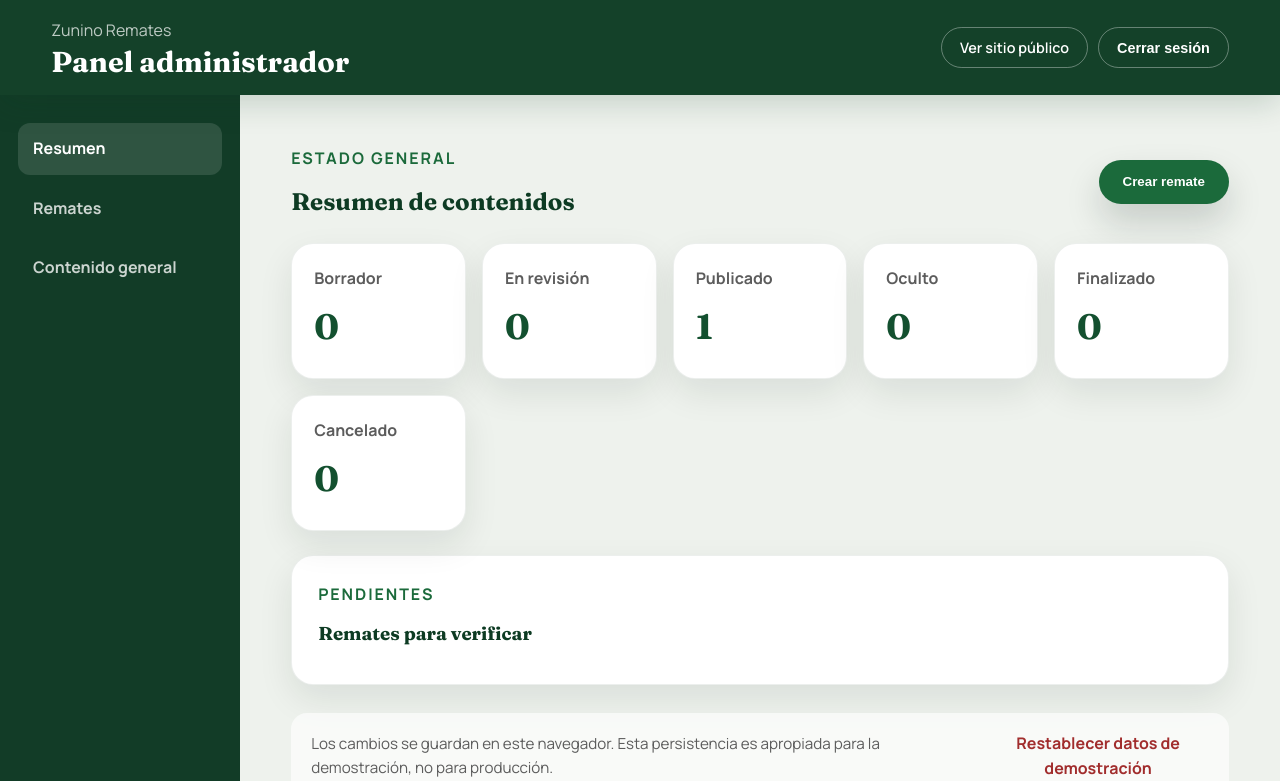
Scenario: panel administrador › mantiene abierto el editor y conserva los datos locales ante un conflicto
Click the button "Remates": (120, 209) [18,183,222,234]
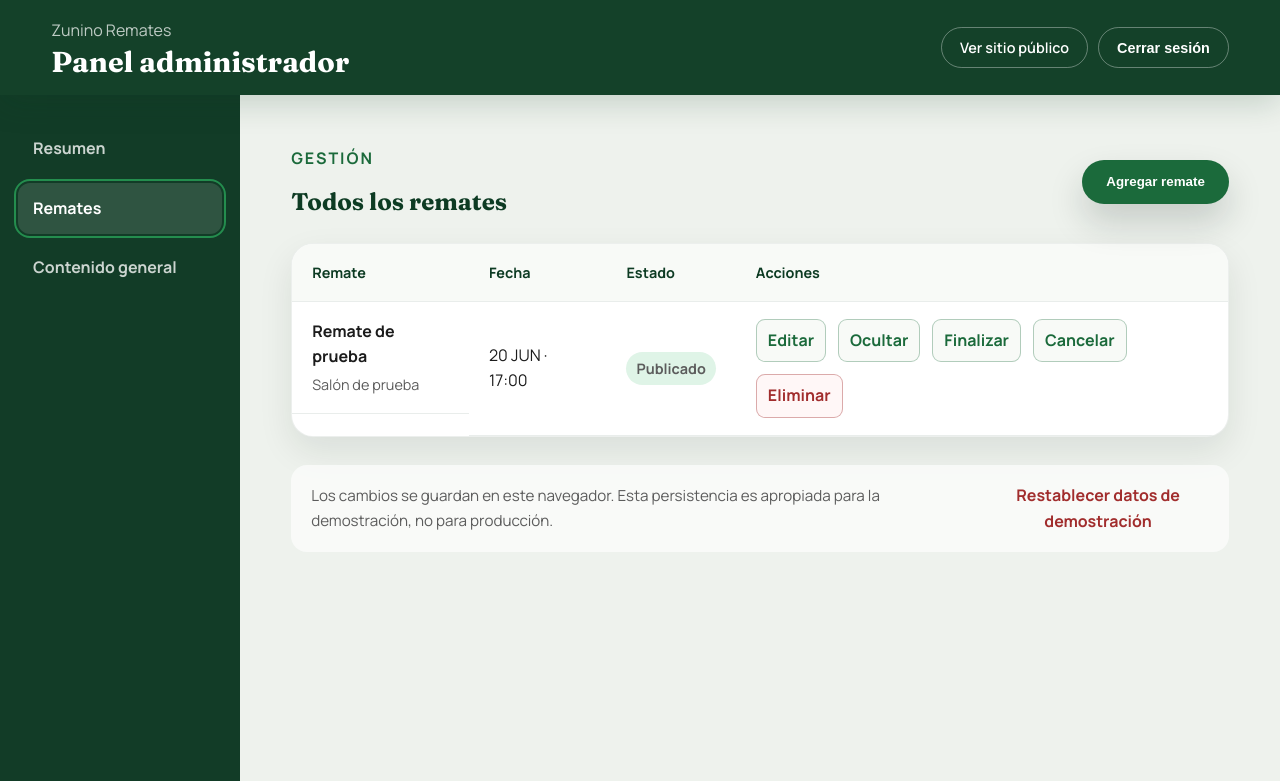
Click the button "Editar": (791, 341) [756,319,826,362]
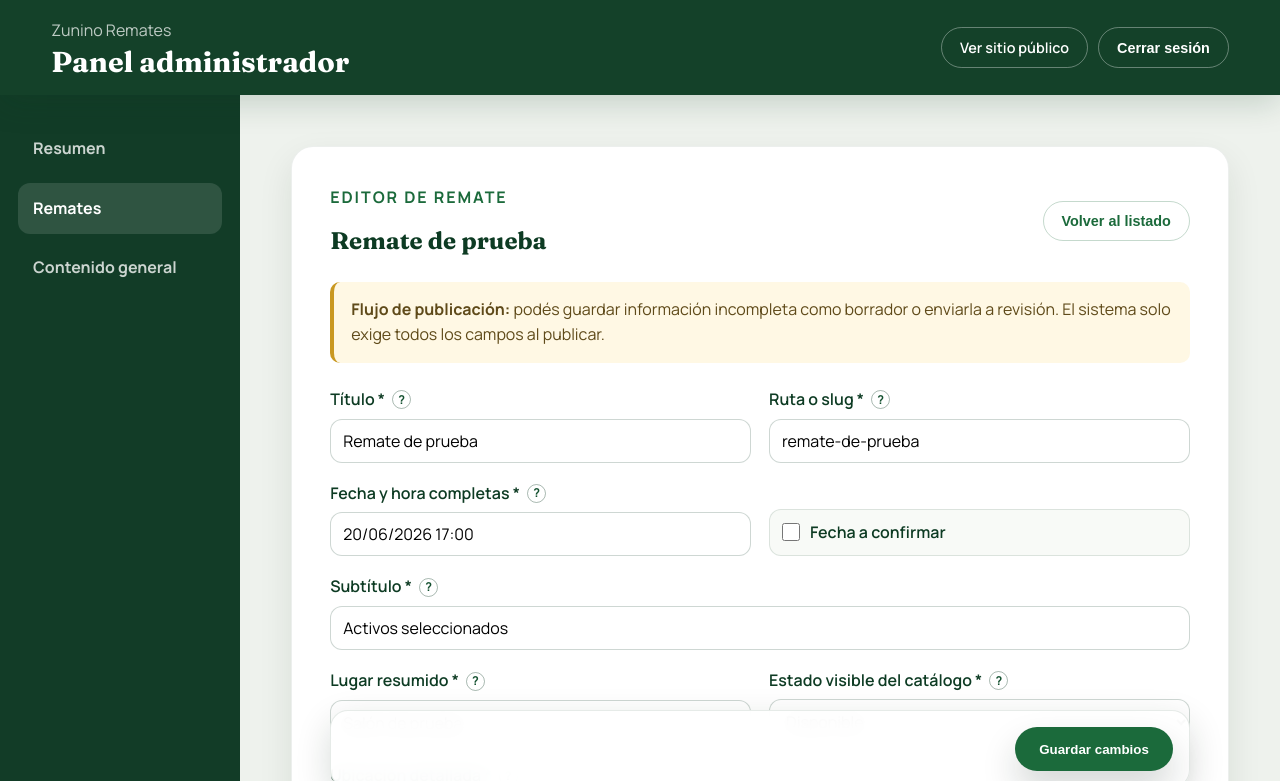
Replace the text in the field labelled "Título * ?" with "Cambio local sin guardar": (541, 441) [330,419,751,463]
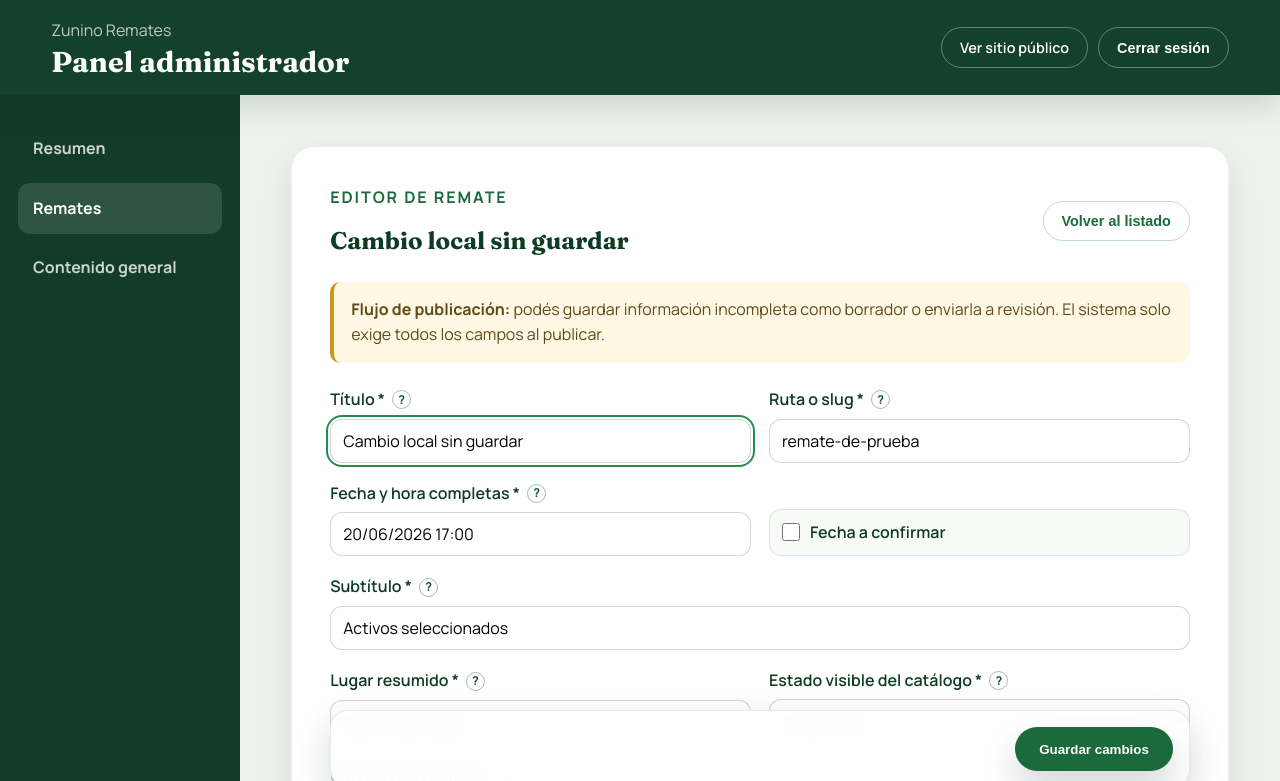
Click the button "Guardar cambios": (1094, 749) [1015,727,1173,771]
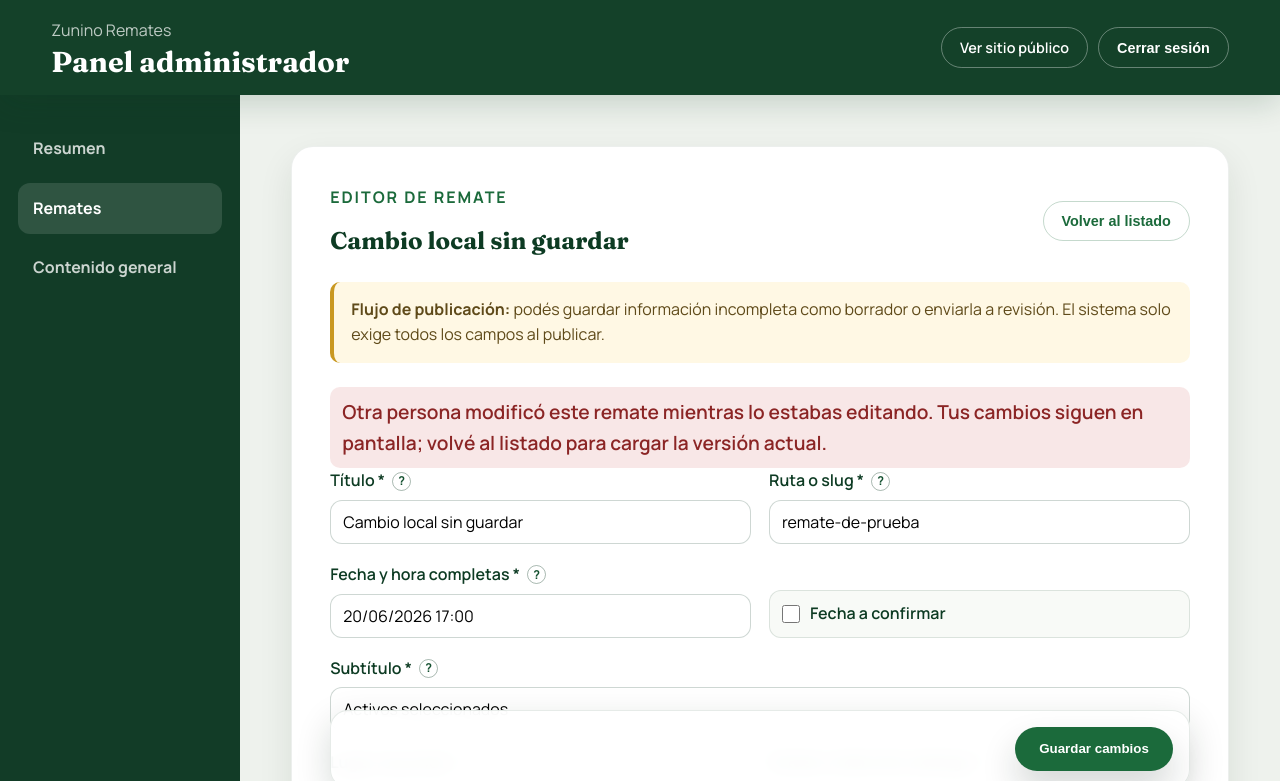
Expected: the button "Guardar cambios" is shown, [1015,727,1173,771]
Expected: the message shows "tus cambios siguen en pantalla", [342,399,1143,456]
